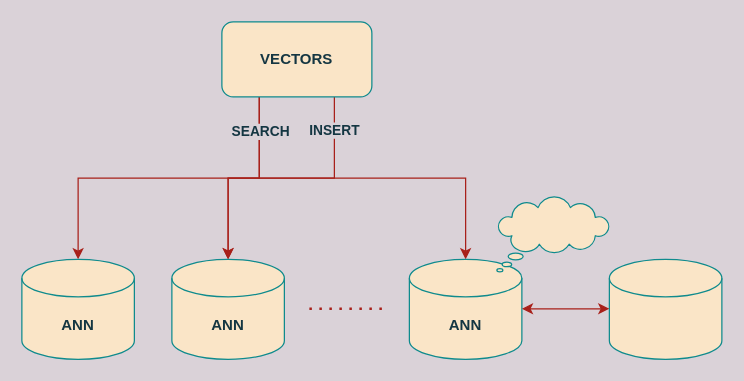
Some shapes in this 744 by 381 pixel diagram are drawn without their labels. Here are the shapes that lost their labels. From the top down, the box of each, then its label:
(496, 196, 609, 272): Partitions
(608, 258, 722, 359): IdMapping
